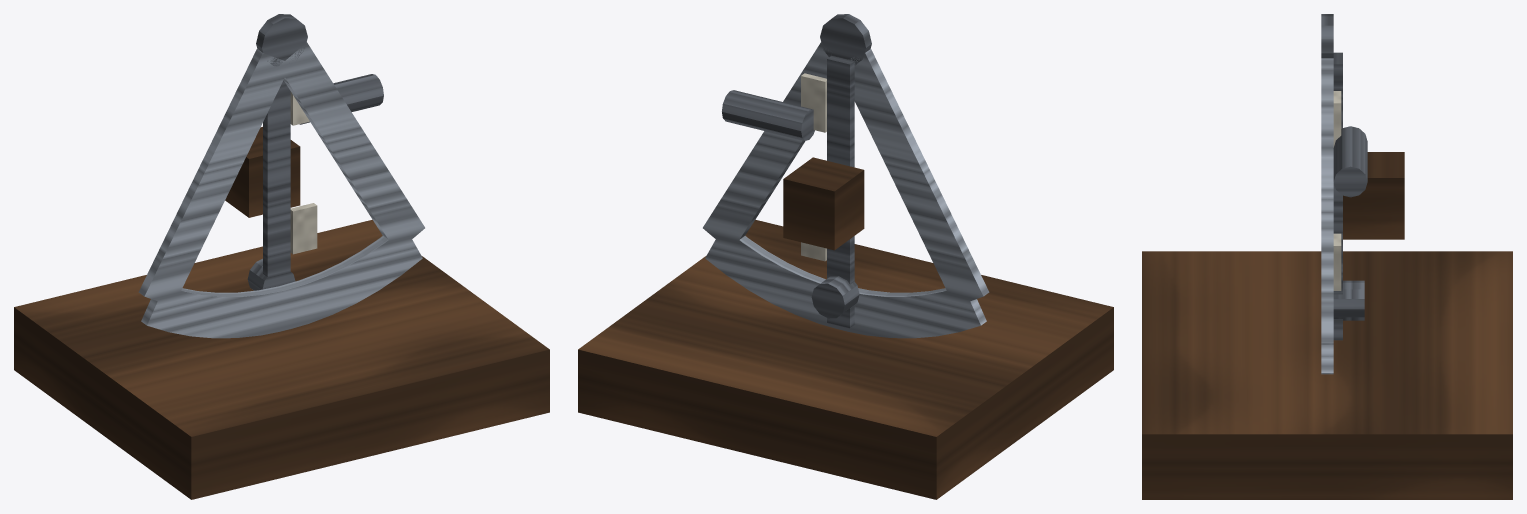
The model's file is sextant.fbx.
The picture shows the model from 3 angles, left to right: view 1: azimuth 30°, elevation 25°; view 2: azimuth 150°, elevation 25°; view 3: azimuth 270°, elevation 25°; orthographic projection. The views are drawn at different scales.
Parts seen in each view (by area): view 1: sextant; view 2: sextant; view 3: sextant.
Part boxes in pixels (x1=…): sextant: x1=14, y1=14, x2=549, y2=499; sextant: x1=578, y1=14, x2=1113, y2=499; sextant: x1=1142, y1=14, x2=1512, y2=499.
Bounding box in the file's own units: 28 × 28 × 24.
